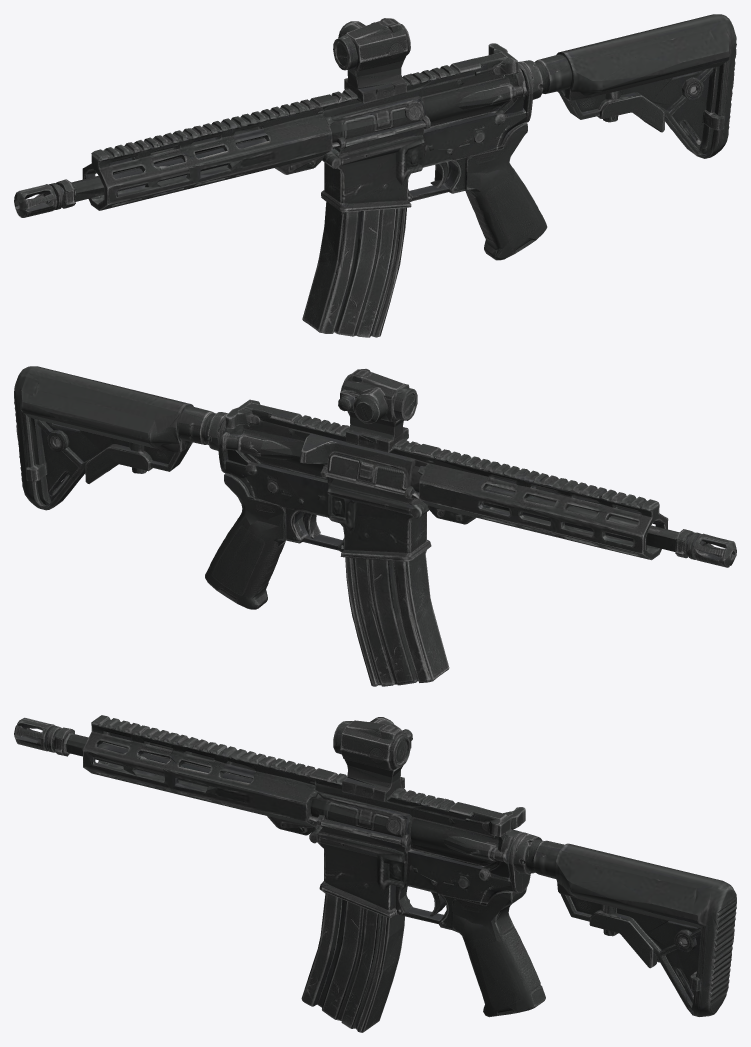
File: carbine.glb
The picture shows the model from 3 angles, top to bottom: view 1: azimuth 30°, elevation 25°; view 2: azimuth 150°, elevation 25°; view 3: azimuth 330°, elevation 25°; orthographic projection.
Visible parts, largest first — view 1: Mesh_0; view 2: Mesh_0; view 3: Mesh_0.
Boxes of the visible parts, x1,y1,x2,y2 form: Mesh_0: [14, 14, 736, 337]; Mesh_0: [14, 366, 736, 686]; Mesh_0: [14, 715, 736, 1032].
Bounding box in the file's own units: 1.9 × 0.7773 × 0.1643.
Materials: 1 (1 with a texture image).
